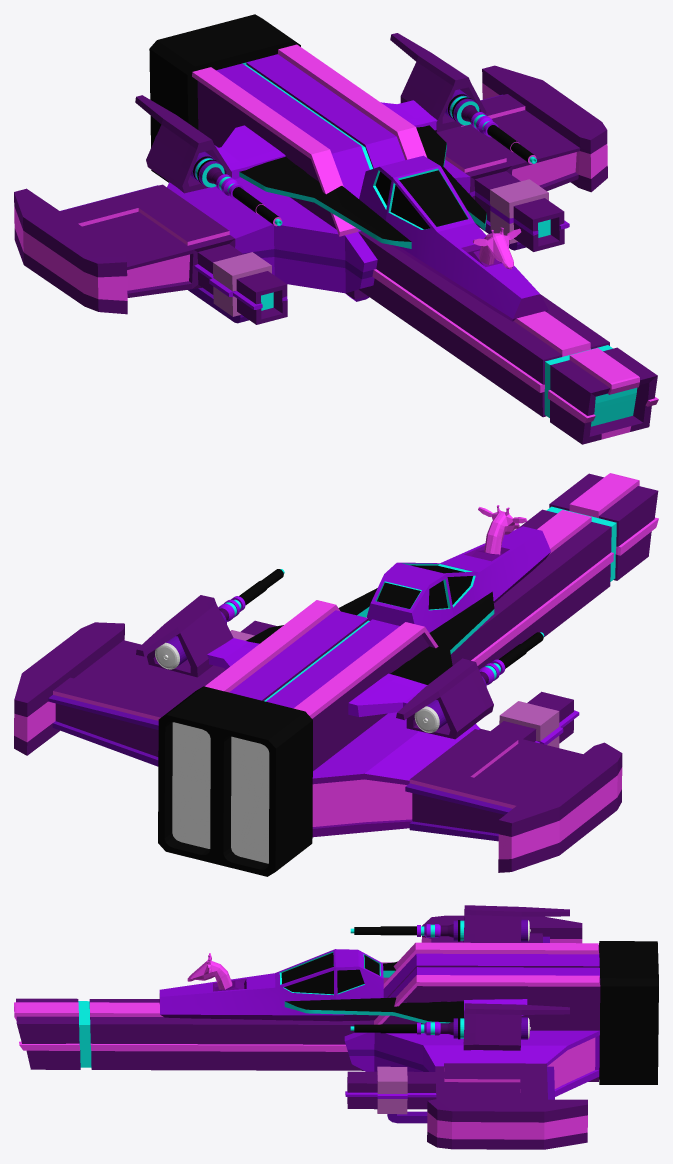
The model's file is Iboga.fbx.
3 renders of one model, top to bottom at view 1: azimuth 30°, elevation 25°; view 2: azimuth 150°, elevation 25°; view 3: azimuth 270°, elevation 25°, orthographic. The views are drawn at different scales.
Visible parts, largest first — view 1: pasted__polySurface145; view 2: pasted__polySurface145; view 3: pasted__polySurface145.
Boxes of the visible parts, bbox=[...] form: pasted__polySurface145: bbox=[14, 14, 658, 444]; pasted__polySurface145: bbox=[14, 473, 658, 876]; pasted__polySurface145: bbox=[14, 905, 658, 1149].
Size of the model in its own units: 80.85 by 21.77 by 109.
